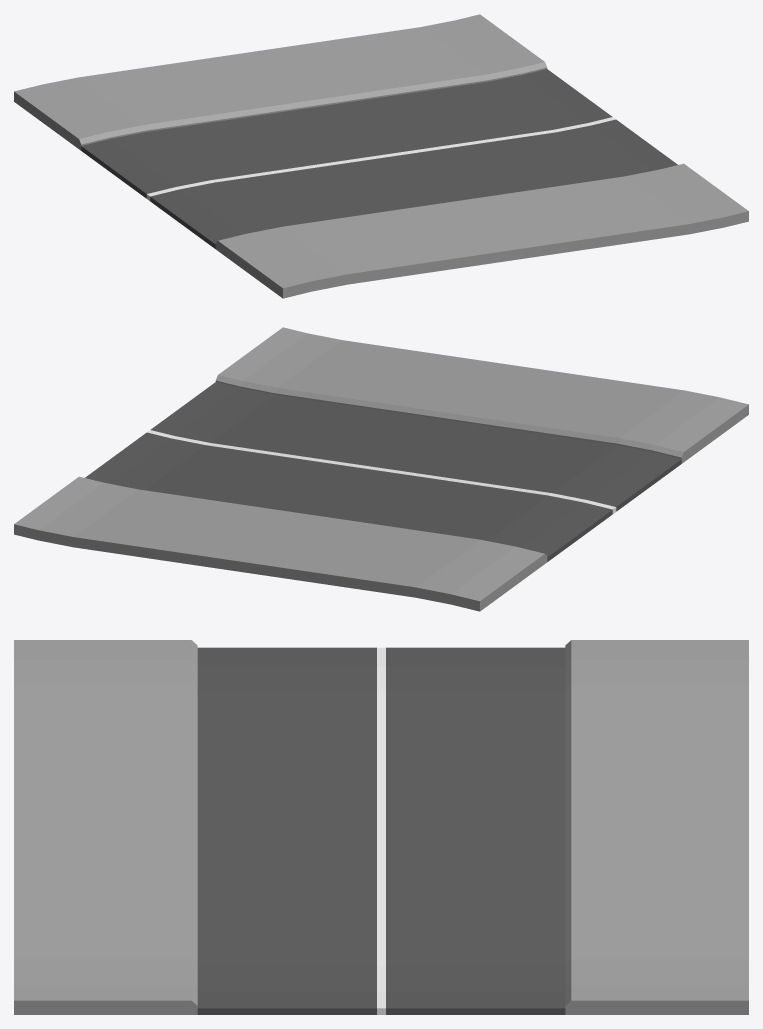
The model's file is roadSlope.fbx.
3 views of the same model, one above another, from view 1: azimuth 30°, elevation 25°; view 2: azimuth 150°, elevation 25°; view 3: azimuth 270°, elevation 25° (orthographic). The views are drawn at different scales.
Parts seen in each view (by area): view 1: RoadSlope; view 2: RoadSlope; view 3: RoadSlope.
Part boxes in pixels (x1=…): RoadSlope: x1=14, y1=14, x2=748, y2=298; RoadSlope: x1=14, y1=327, x2=748, y2=611; RoadSlope: x1=14, y1=640, x2=748, y2=1014.
Bounding box in the file's own units: 2000 × 192 × 2000.
